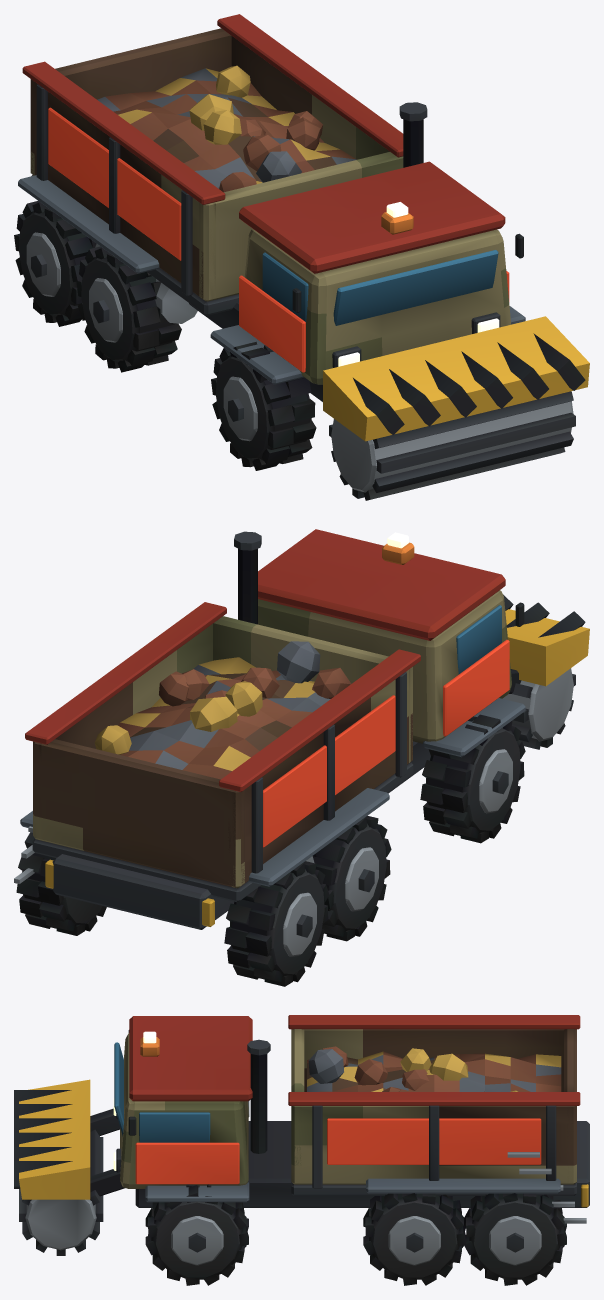
Rendered from harvester.glb.
3 renders of one model, top to bottom at view 1: azimuth 30°, elevation 25°; view 2: azimuth 150°, elevation 25°; view 3: azimuth 270°, elevation 25°, orthographic. The views are drawn at different scales.
Parts seen in each view (by area): view 1: geo_body, cargo_fill, geo_wheel_front, geo_wheel_mid, geo_wheel_rear; view 2: geo_body, cargo_fill, geo_wheel_rear, geo_wheel_front, geo_wheel_mid; view 3: geo_body, cargo_fill, geo_wheel_mid, geo_wheel_rear, geo_wheel_front.
Boxes of the visible parts, <box> form: geo_body: <box>18,14,589,500</box>; cargo_fill: <box>97,65,356,192</box>; geo_wheel_front: <box>211,341,316,470</box>; geo_wheel_mid: <box>76,246,181,372</box>; geo_wheel_rear: <box>14,201,96,326</box>; geo_body: <box>14,529,589,929</box>; cargo_fill: <box>94,641,351,779</box>; geo_wheel_rear: <box>16,832,329,986</box>; geo_wheel_front: <box>420,714,525,843</box>; geo_wheel_mid: <box>312,815,391,941</box>; geo_body: <box>14,1015,589,1255</box>; cargo_fill: <box>307,1046,561,1091</box>; geo_wheel_mid: <box>363,1193,466,1285</box>; geo_wheel_rear: <box>464,1193,566,1285</box>; geo_wheel_front: <box>145,1184,248,1285</box>.
Bounding box in the file's own units: 3.88 × 3.84 × 8.88.
